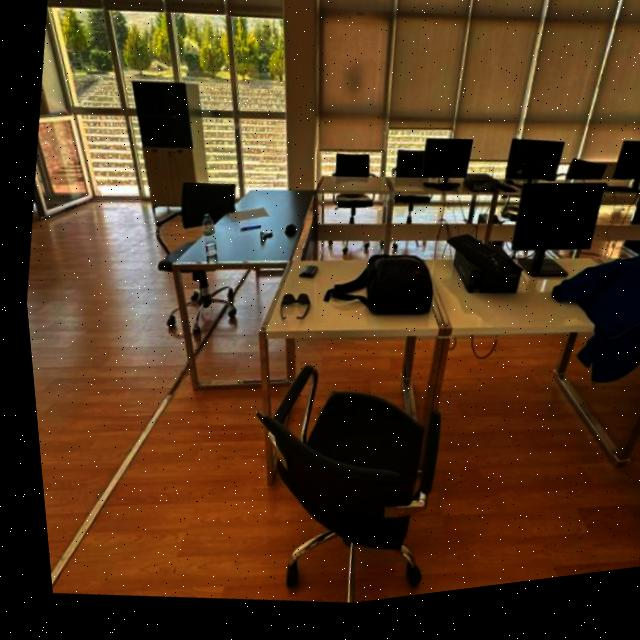canta: (310, 262, 429, 344)
cuzdan: (292, 271, 310, 283)
monitor: (504, 195, 601, 272), (500, 149, 559, 223), (414, 148, 468, 196)
sise: (197, 216, 211, 262)
